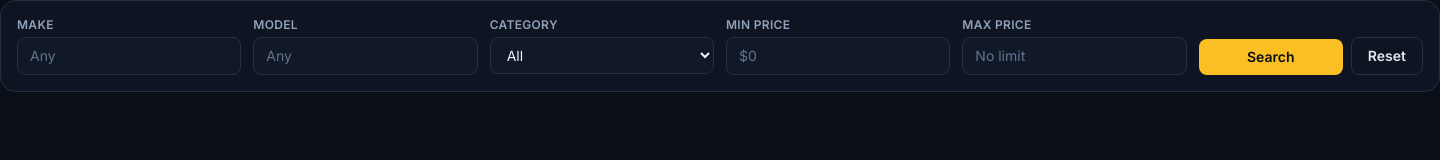
Test: SearchFilters › shows an error and does not search when min price exceeds max price
Type "50000" into the number field labelled "Min price" at (838, 56), box [726, 37, 950, 75]
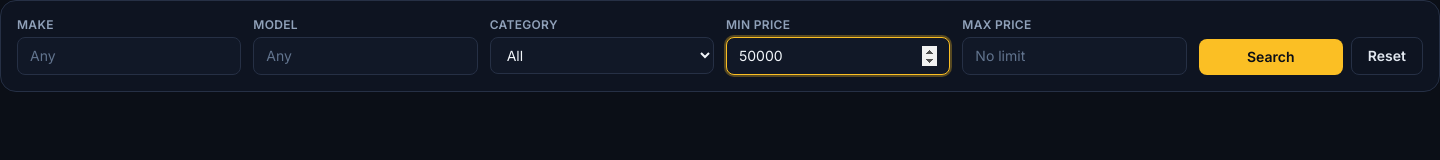
Type "1000" into the number field labelled "Max price" at (1074, 56), box [962, 37, 1187, 75]
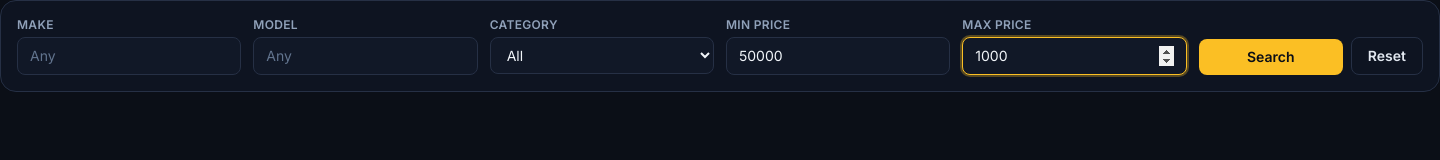
Click the button "Search" at (1271, 57), box [1199, 39, 1343, 75]
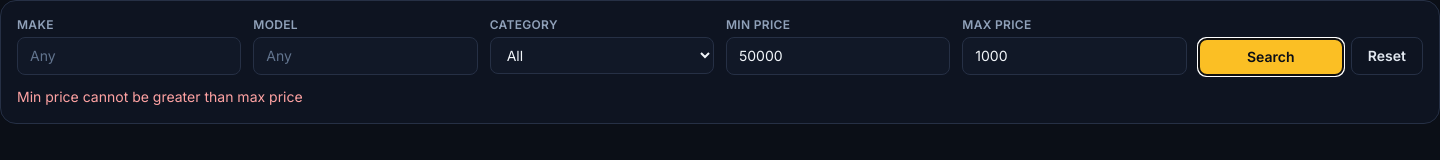
Expected: the message shows "Min price", [17, 88, 303, 105]
